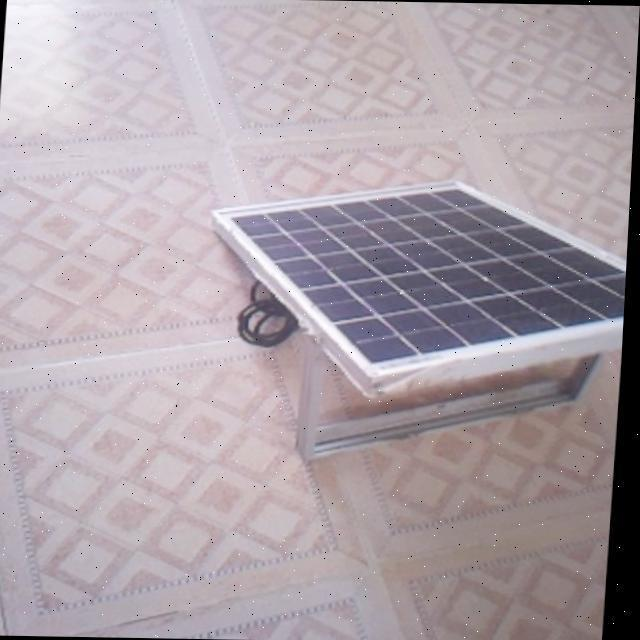Normal Solar Panel: (204, 176, 633, 399)
